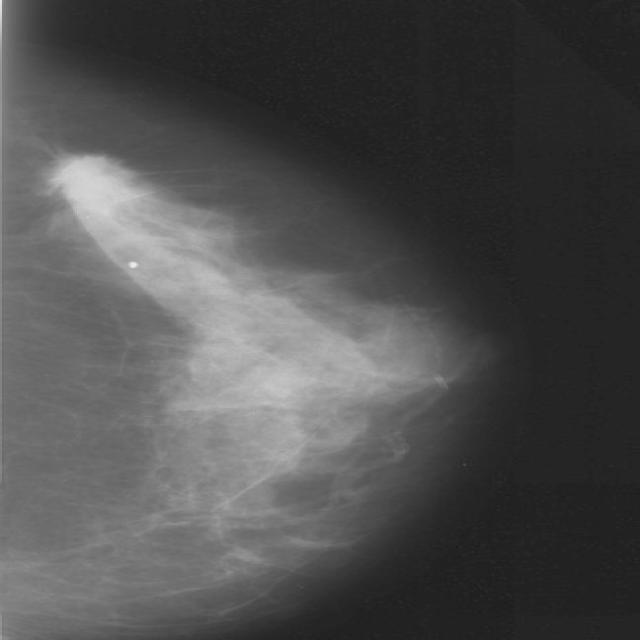tumour: (48, 154, 128, 204)
